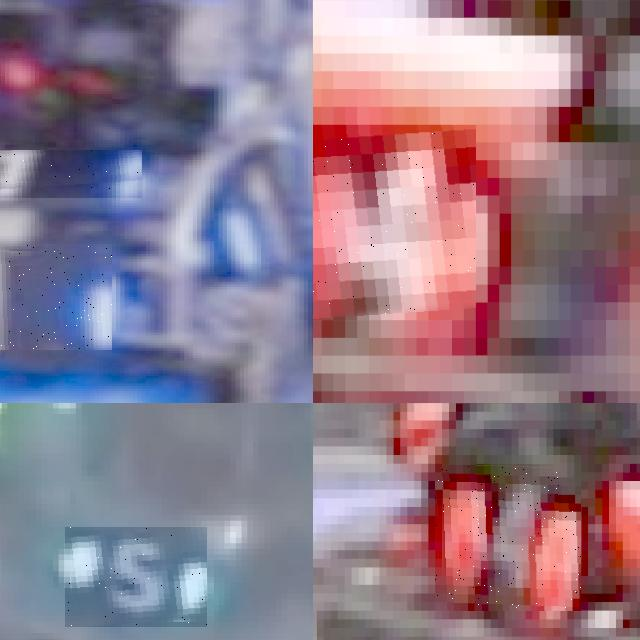B1: (0, 243, 111, 350), (0, 149, 141, 198)
B5: (65, 527, 207, 627)
R4: (313, 124, 475, 320), (435, 463, 581, 611)
